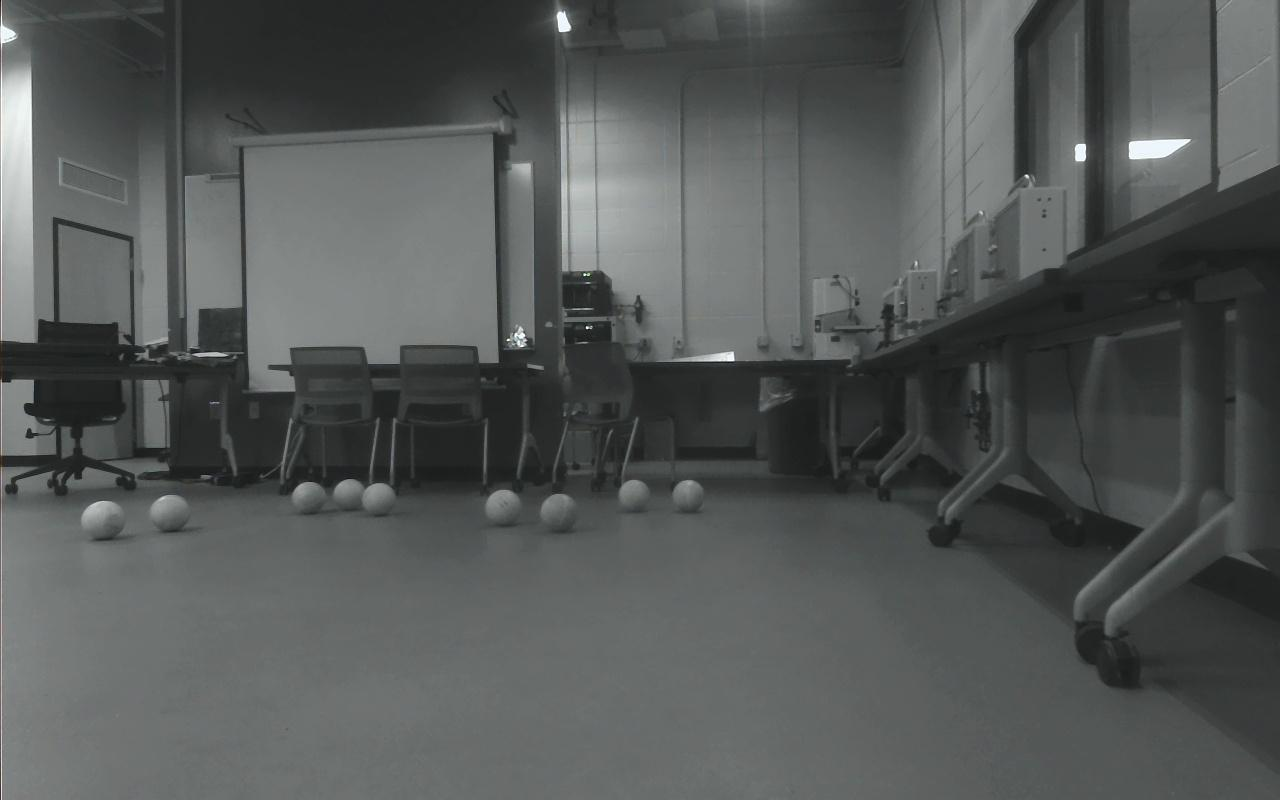Fuel: (79, 499, 125, 541), (150, 494, 192, 534), (539, 493, 579, 533), (484, 489, 522, 526), (361, 482, 397, 517), (671, 479, 707, 513), (291, 480, 326, 514), (617, 479, 652, 513), (332, 478, 366, 512)
